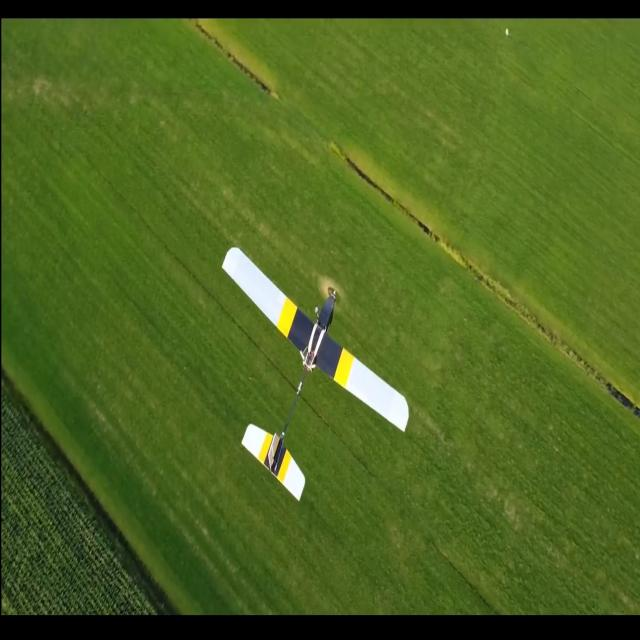iha: (222, 237, 410, 511)
